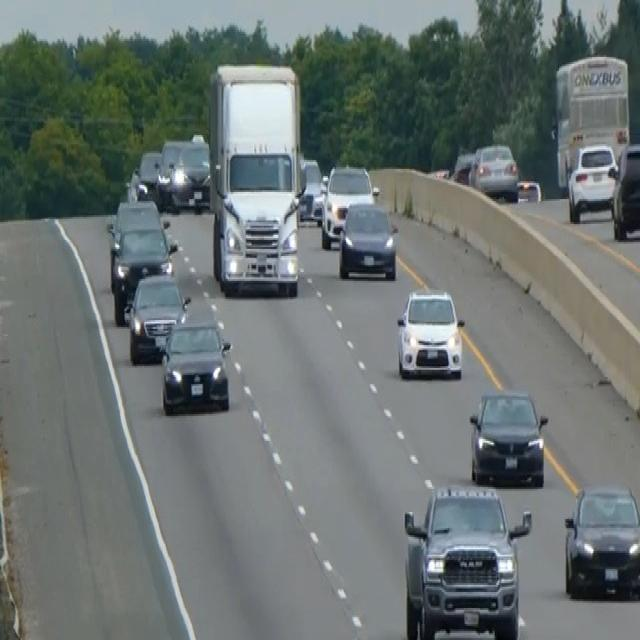car: (562, 480, 639, 601), (467, 388, 548, 487), (159, 316, 232, 414), (110, 222, 178, 324), (395, 284, 465, 380), (126, 270, 190, 363), (106, 198, 167, 286), (320, 162, 378, 249), (337, 197, 397, 281), (566, 140, 617, 222), (170, 132, 210, 210), (468, 140, 519, 201), (608, 140, 639, 240), (156, 137, 187, 208), (109, 196, 162, 234), (298, 156, 324, 222), (135, 147, 161, 201), (451, 147, 476, 185)
jeep: (401, 480, 532, 638)
lorry: (207, 60, 304, 297)
